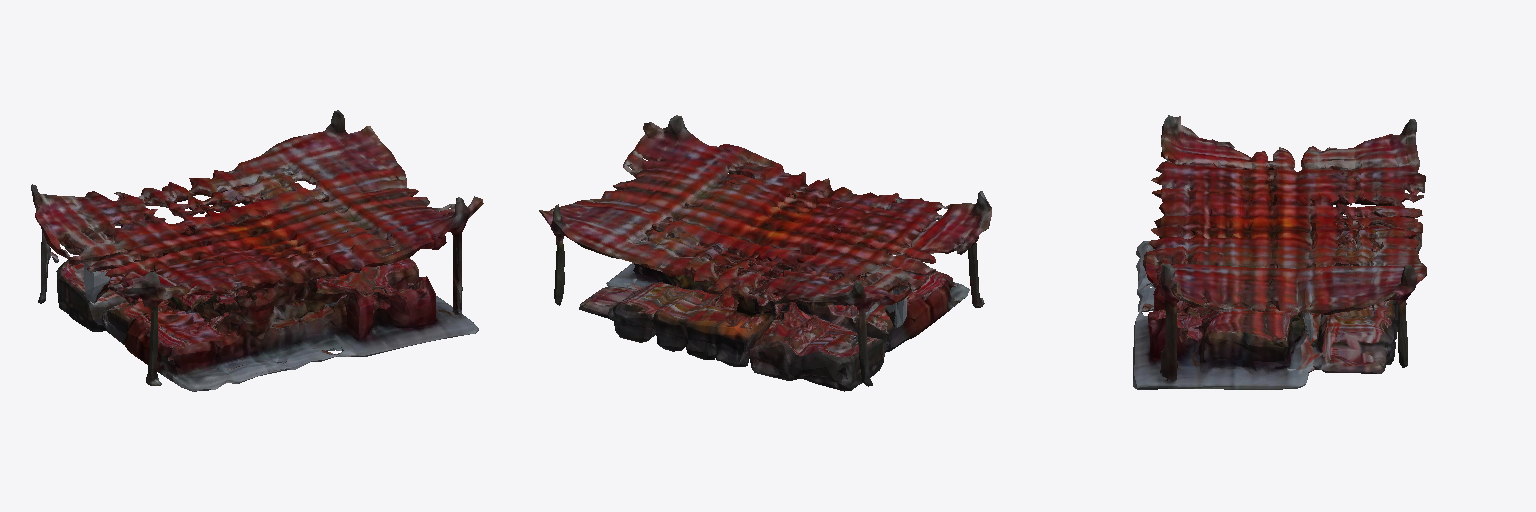
3 renders of one model, left to right at view 1: azimuth 30°, elevation 25°; view 2: azimuth 150°, elevation 25°; view 3: azimuth 270°, elevation 25°, orthographic.
Visible parts, largest first — view 1: mesh; view 2: mesh; view 3: mesh.
Part boxes in pixels (left/top/right/bottom): mesh: left=31, top=110, right=483, bottom=391; mesh: left=539, top=115, right=991, bottom=391; mesh: left=1133, top=115, right=1426, bottom=389.
Size of the model in its own units: 1 by 0.3483 by 0.726.
Materials: 1 (1 with a texture image).